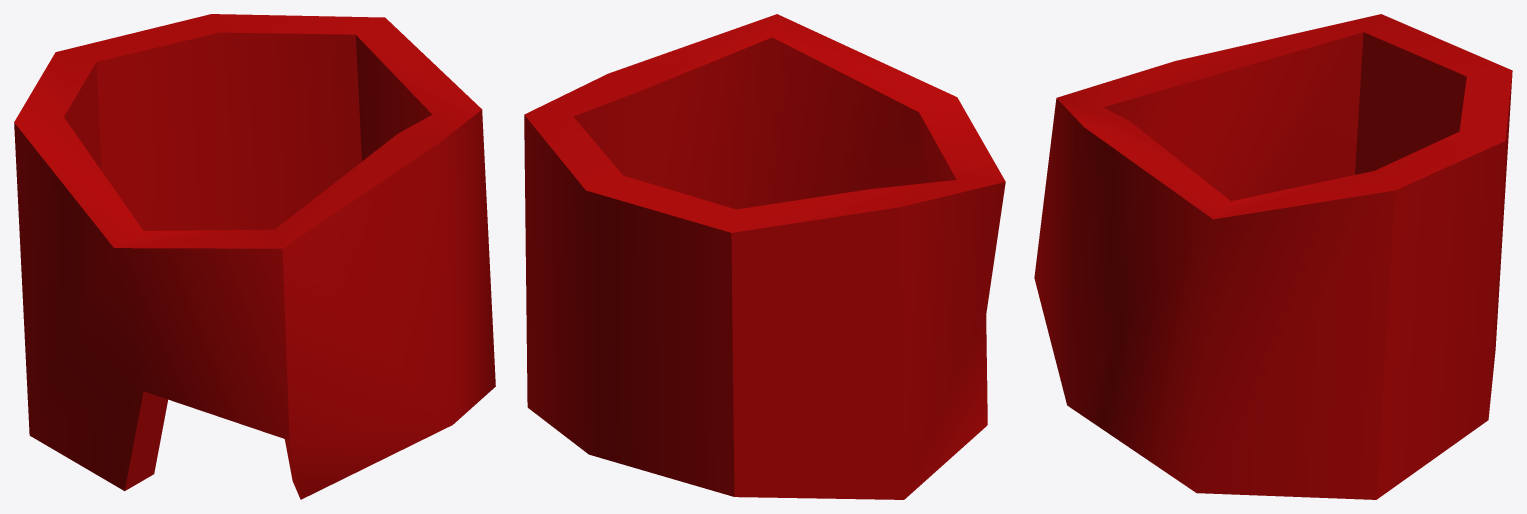
Rendered from s_ruin_tower_2_lod0.glb.
3 views of the same model, side by side, from view 1: azimuth 30°, elevation 25°; view 2: azimuth 150°, elevation 25°; view 3: azimuth 270°, elevation 25° (orthographic). The views are drawn at different scales.
Parts seen in each view (by area): view 1: MODEL_s_ruin_tower_2_lod0; view 2: MODEL_s_ruin_tower_2_lod0; view 3: MODEL_s_ruin_tower_2_lod0.
Part boxes in pixels (left/top/right/bottom): MODEL_s_ruin_tower_2_lod0: left=14, top=14, right=495, bottom=499; MODEL_s_ruin_tower_2_lod0: left=524, top=14, right=1005, bottom=499; MODEL_s_ruin_tower_2_lod0: left=1034, top=14, right=1512, bottom=499.
Size of the model in its own units: 0.6635 by 0.5309 by 0.7026.
